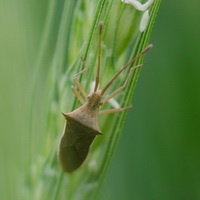insect: (59, 23, 151, 172), (59, 22, 151, 171)
